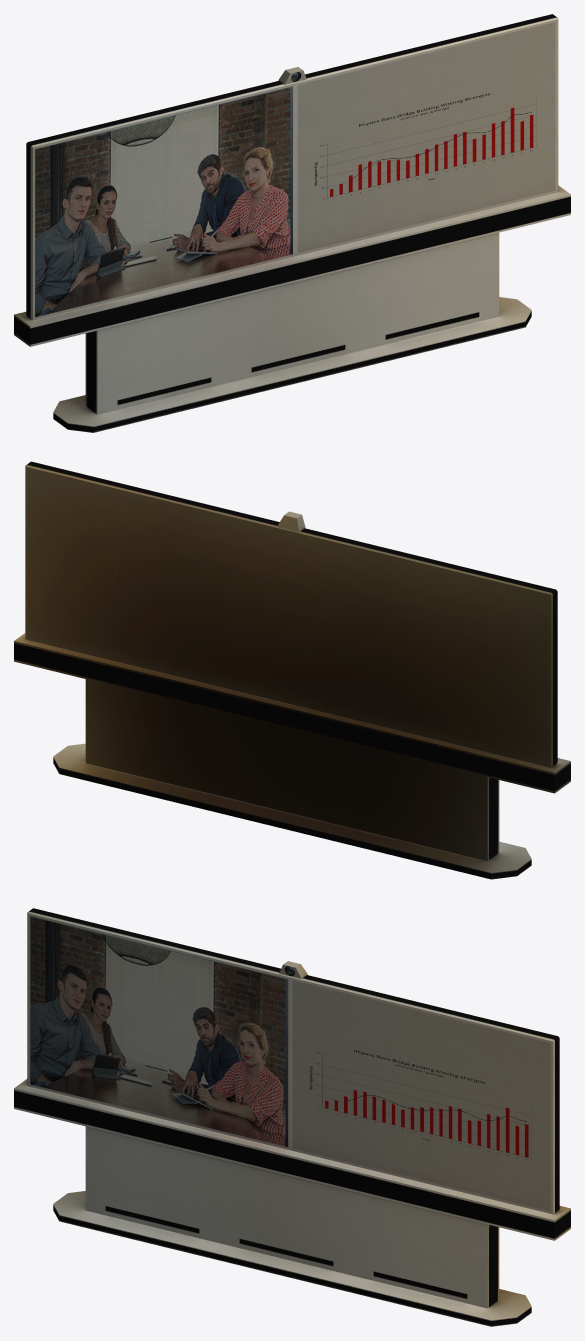
File: CT_CTV.FBX
The picture shows the model from 3 angles, top to bottom: view 1: azimuth 30°, elevation 25°; view 2: azimuth 150°, elevation 25°; view 3: azimuth 330°, elevation 25°; orthographic projection.
Visible parts, largest first — view 1: CT_CTV; view 2: CT_CTV; view 3: CT_CTV.
Part boxes in pixels (left/top/right/bottom): CT_CTV: left=14, top=14, right=570, bottom=432; CT_CTV: left=14, top=461, right=570, bottom=879; CT_CTV: left=14, top=908, right=570, bottom=1326.
Size of the model in its own units: 317 by 167 by 34.71.
